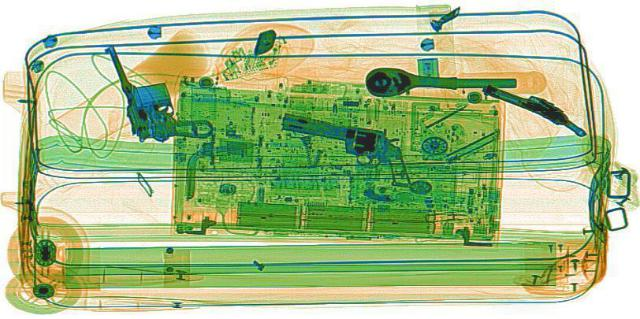Gun: (240, 108, 452, 187), (102, 40, 216, 142), (464, 81, 608, 137)
